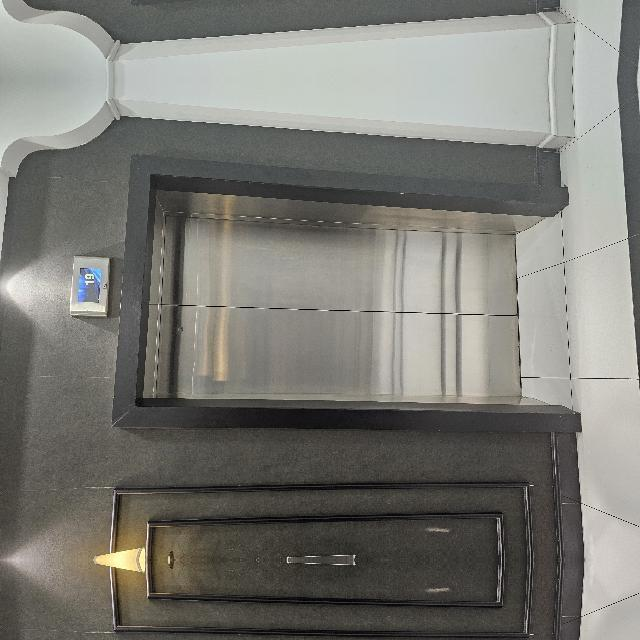door: (122, 199, 413, 640), (122, 449, 413, 640)
